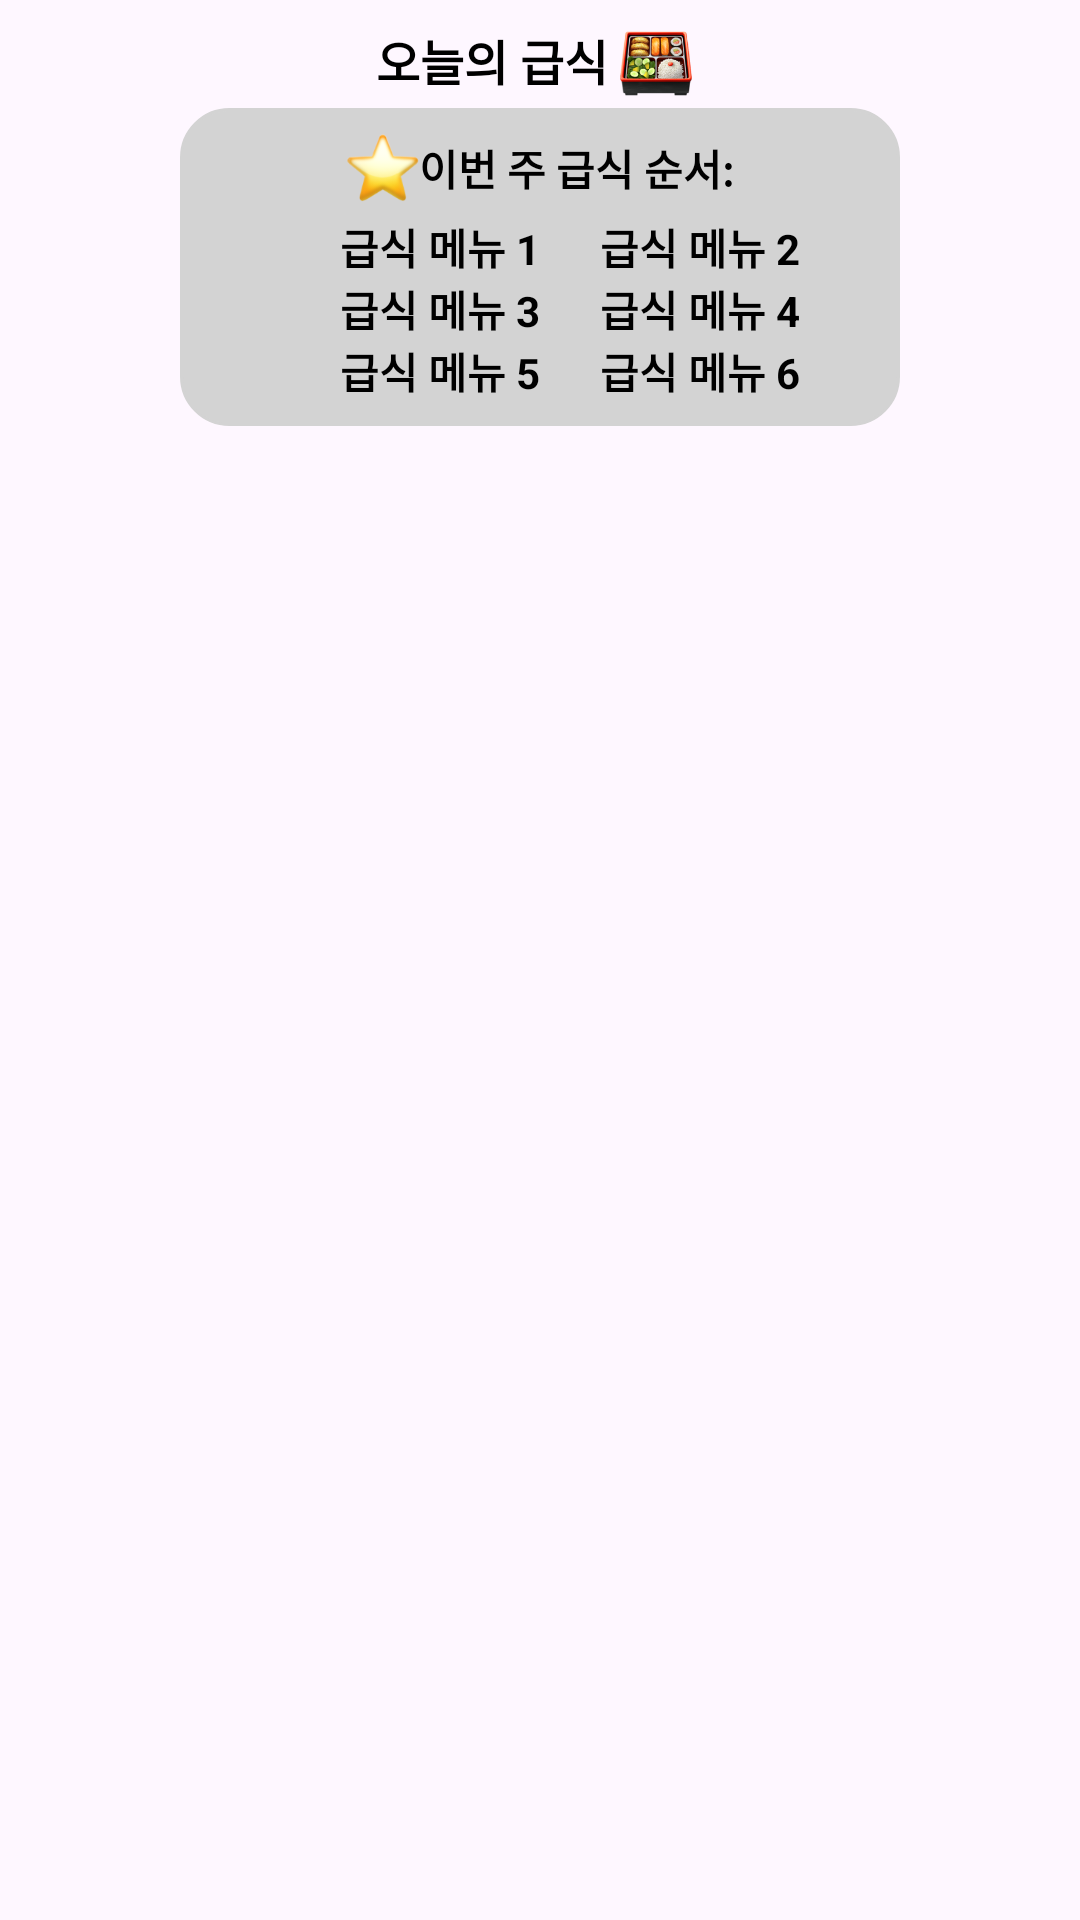

Icons on this 1080 × 1920 Android screen, each with the point to tap as (x=x, y=y):
food: (x=656, y=63)
star: (x=382, y=167)
